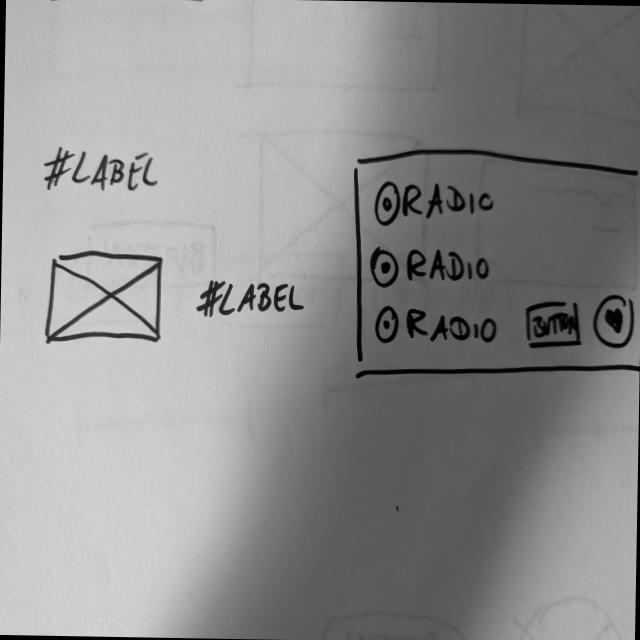button: (524, 297, 586, 355)
container: (349, 146, 640, 384)
icon-button: (592, 294, 637, 351)
image: (44, 249, 167, 348)
label: (43, 145, 163, 197), (193, 277, 310, 326)
radio: (374, 178, 498, 231), (374, 304, 499, 349), (369, 247, 493, 292)
